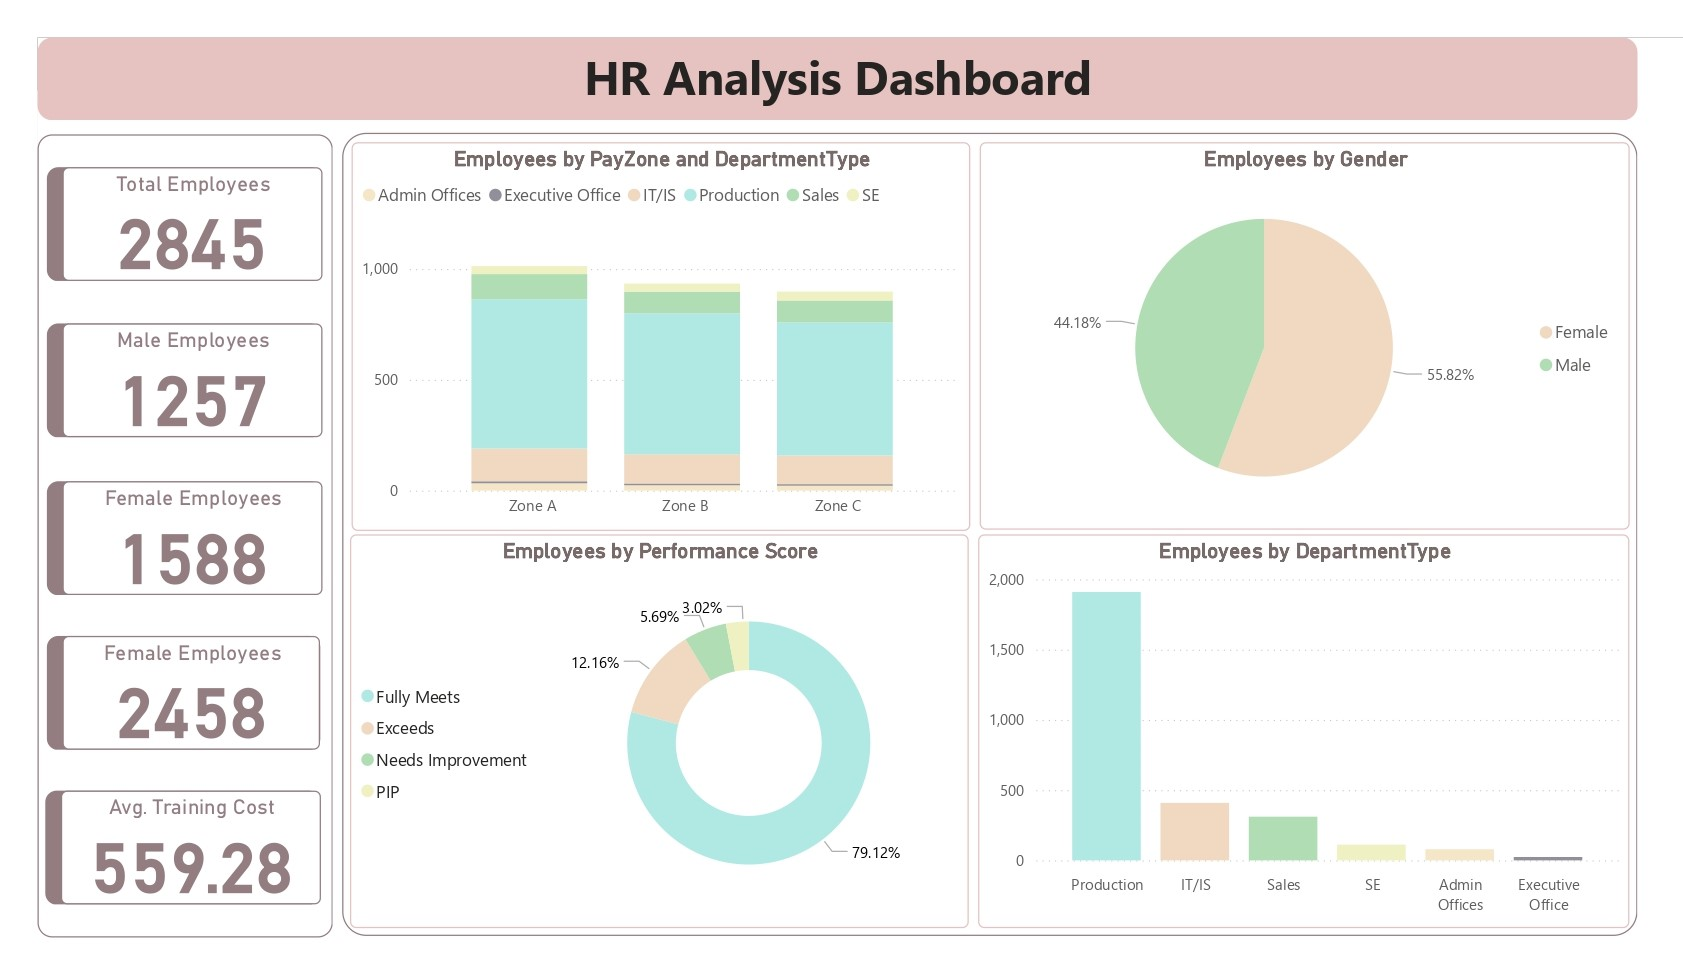

This screenshot's page, from the dashboard's own definition file:
{"tool":"powerbi","page":{"name":"Page 1","canvas":[1280,720],"ordinal":0},"visuals":[{"type":"shape","box":[0,0,1280,66.2],"z":0,"group":"g1"},{"type":"textbox","box":[192.3,1.2,895.5,66.2],"z":1000,"group":"g1"},{"type":"shape","box":[243.8,75.9,1036.2,642.5],"z":1000,"group":"g7"},{"type":"clusteredColumnChart","title":"Employees by DepartmentType","fields":{"Y":["CountNonNull(Cleaned_HR_Data_Analysis (2).Employee ID)"],"Category":["Cleaned_HR_Data_Analysis (2).DepartmentType"]},"box":[752.6,397.1,521.2,315],"z":1500,"group":"g7"},{"type":"group","id":"g1","title":"Group 1","box":[0,0,1280,67.5],"z":2000},{"type":"columnChart","title":"Employees by PayZone and DepartmentType","fields":{"Category":["Cleaned_HR_Data_Analysis (2).PayZone"],"Y":["CountNonNull(Cleaned_HR_Data_Analysis (2).Employee ID)"],"Series":["Cleaned_HR_Data_Analysis (2).DepartmentType"]},"box":[251.6,82.8,495,311.2],"z":2000,"group":"g7"},{"type":"shape","box":[0,77.5,236.2,642.5],"z":3000},{"type":"group","id":"g2","title":"Group 2","box":[7.5,103.5,220,91.2],"z":4000},{"type":"pieChart","title":"Employees by Gender","fields":{"Y":["CountNonNull(Cleaned_HR_Data_Analysis (2).Employee ID)"],"Category":["Cleaned_HR_Data_Analysis (2).GenderCode"]},"box":[753.8,83.4,520,310],"z":4500,"group":"g7"},{"type":"shape","box":[7.5,103.5,220,91.2],"z":5000,"group":"g2"},{"type":"shape","box":[7.5,229.1,220,91.2],"z":5000,"group":"g4"},{"type":"group","id":"g3","title":"Group 2","box":[7.5,355.4,220,91.2],"z":5000},{"type":"shape","box":[7.5,355.4,220,91.2],"z":5000,"group":"g3"},{"type":"shape","box":[7.5,478.5,218.8,91.2],"z":5000,"group":"g6"},{"type":"shape","box":[6.2,602.9,220,91.2],"z":5000,"group":"g5"},{"type":"card","title":"Total Employees","fields":{"Values":["Count(Cleaned_HR_Data_Analysis (2).Employee ID)"]},"box":[20,103.5,207.5,91.2],"z":5500,"group":"g2"},{"type":"card","title":"Male Employees","fields":{"Values":["All Measures.Male Employees"]},"box":[20,229.1,207.5,91.2],"z":5500,"group":"g4"},{"type":"card","title":"Female Employees","fields":{"Values":["All Measures.Female Employees"]},"box":[20,355.4,207.5,91.2],"z":5500,"group":"g3"},{"type":"donutChart","title":"Employees by Performance Score","fields":{"Category":["Cleaned_HR_Data_Analysis (2).Performance Score"],"Y":["CountNonNull(Cleaned_HR_Data_Analysis (2).Employee ID)"]},"box":[250.4,396.5,495,315],"z":5500,"group":"g7"},{"type":"card","title":"Female Employees","fields":{"Values":["All Measures.Active Employees"]},"box":[19.9,478.5,206.3,91.2],"z":5500,"group":"g6"},{"type":"card","title":"Avg. Training Cost","fields":{"Values":["Avg(Cleaned_HR_Data_Analysis (2).Training Cost)"]},"box":[18.7,602.9,207.5,91.2],"z":5500,"group":"g5"},{"type":"group","id":"g4","title":"Group 2","box":[7.5,229.1,220,91.2],"z":6000},{"type":"group","id":"g5","title":"Group 2","box":[6.2,602.9,220,91.2],"z":7000},{"type":"group","id":"g6","title":"Group 2","box":[7.5,478.5,218.8,91.2],"z":8000},{"type":"group","id":"g7","title":"Group 3","box":[243.8,75.9,1036.2,642.5],"z":9004}]}

Visuals, with their boxes in screenshot pixels (x1, y1, x2, y2):
shape: [31, 31, 1632, 113]
textbox: [271, 32, 1391, 115]
shape: [336, 126, 1632, 929]
"Employees by DepartmentType" clusteredColumnChart: [972, 527, 1624, 921]
"Group 1" group: [31, 31, 1632, 115]
"Employees by PayZone and DepartmentType" columnChart: [345, 134, 964, 523]
shape: [31, 128, 326, 931]
"Group 2" group: [40, 160, 315, 274]
"Employees by Gender" pieChart: [973, 135, 1624, 523]
shape: [40, 160, 315, 274]
shape: [40, 317, 315, 431]
"Group 2" group: [40, 475, 315, 589]
shape: [40, 475, 315, 589]
shape: [40, 629, 314, 743]
shape: [38, 785, 314, 899]
"Total Employees" card: [56, 160, 315, 274]
"Male Employees" card: [56, 317, 315, 431]
"Female Employees" card: [56, 475, 315, 589]
"Employees by Performance Score" donutChart: [344, 527, 963, 921]
"Female Employees" card: [56, 629, 314, 743]
"Avg. Training Cost" card: [54, 785, 314, 899]
"Group 2" group: [40, 317, 315, 431]
"Group 2" group: [38, 785, 314, 899]
"Group 2" group: [40, 629, 314, 743]
"Group 3" group: [336, 126, 1632, 929]
